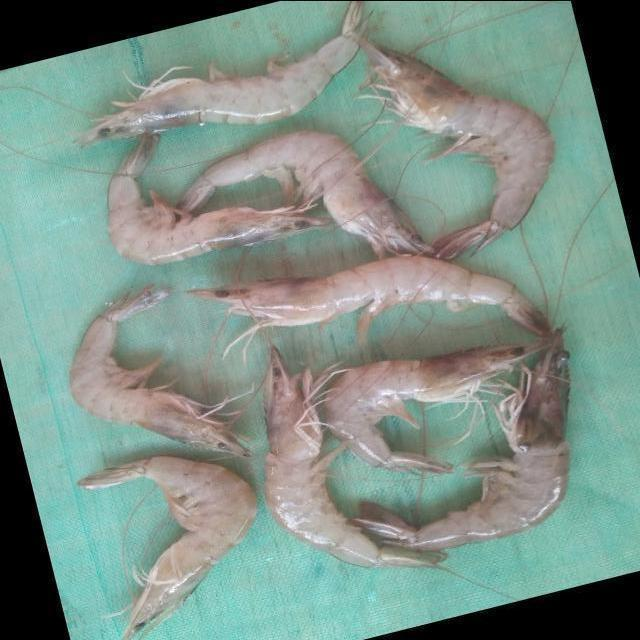shrimp: (355, 330, 569, 552), (358, 36, 554, 259), (75, 0, 367, 144), (262, 347, 445, 569), (186, 255, 551, 351), (76, 456, 256, 640), (176, 129, 431, 257), (67, 284, 248, 457), (323, 340, 547, 474), (106, 132, 332, 264)
